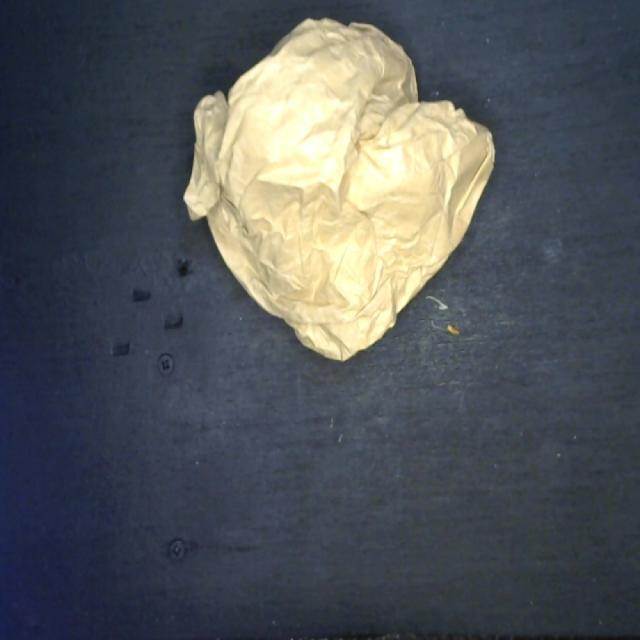biodegradable: (182, 12, 499, 366)
